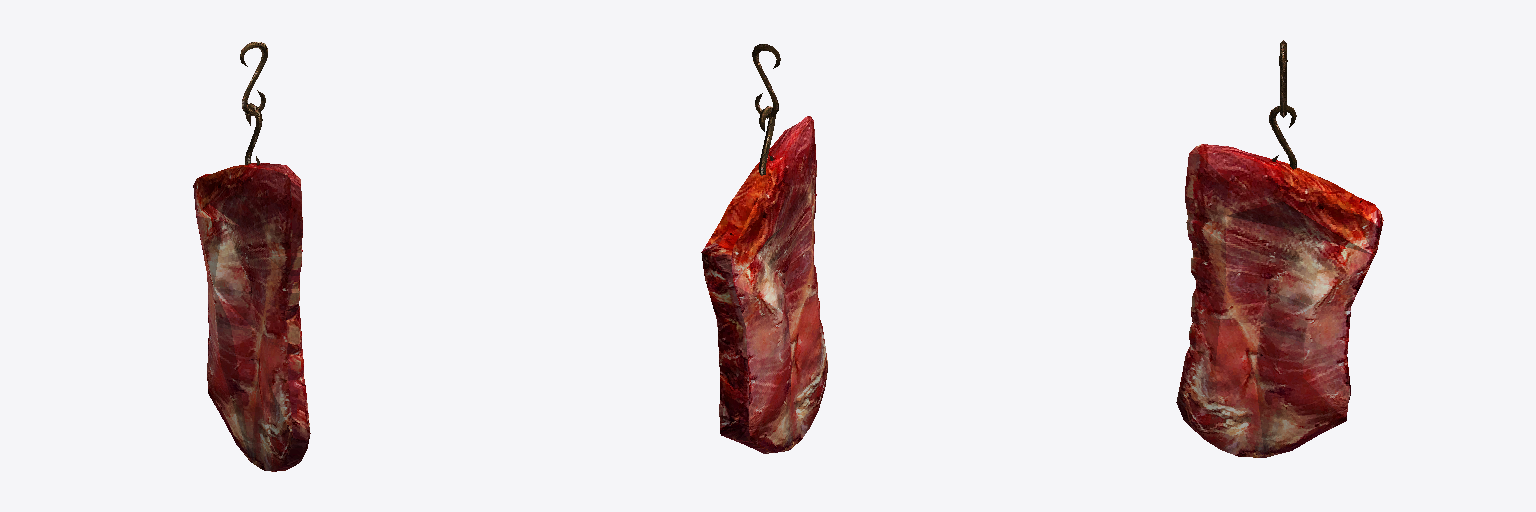
The picture shows the model from 3 angles: view 1: azimuth 30°, elevation 25°; view 2: azimuth 150°, elevation 25°; view 3: azimuth 270°, elevation 25°; orthographic projection.
Visible parts, largest first — view 1: rdmobj01; view 2: rdmobj01; view 3: rdmobj01.
Boxes of the visible parts, <box> form: rdmobj01: <box>193,42,310,471</box>; rdmobj01: <box>701,44,827,453</box>; rdmobj01: <box>1176,40,1383,457</box>.
Size of the model in its own units: 23.45 by 171 by 75.19.
Materials: 3 (1 with a texture image).